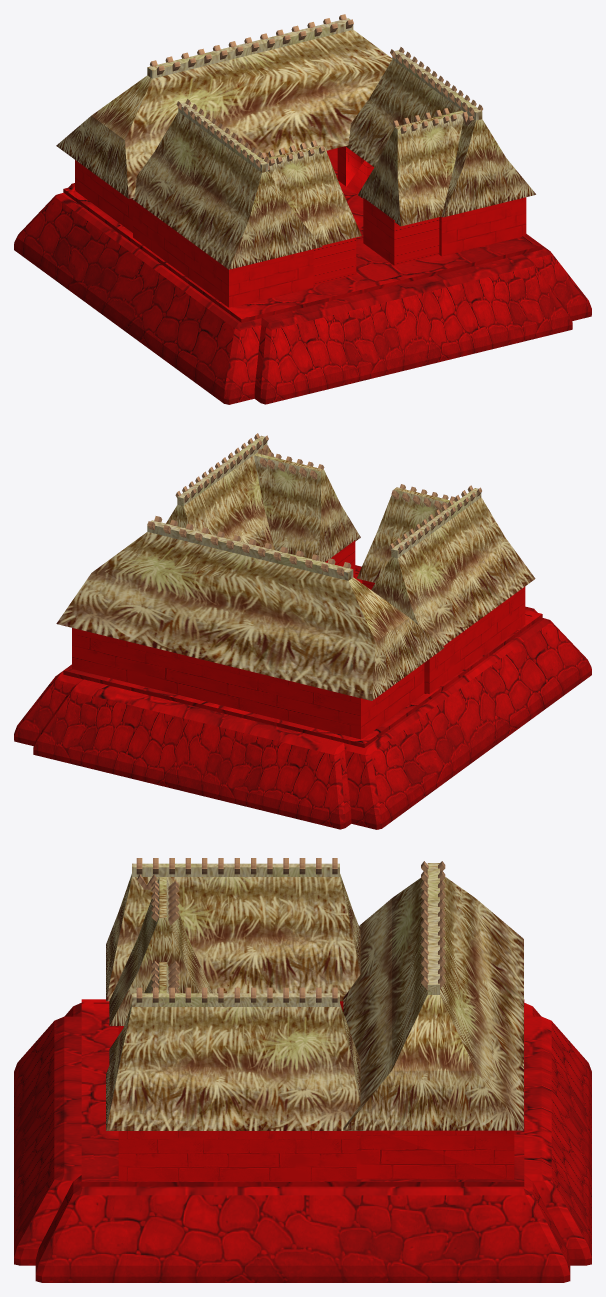
File: BARRACKS.dae
The picture shows the model from 3 angles, top to bottom: view 1: azimuth 30°, elevation 25°; view 2: azimuth 150°, elevation 25°; view 3: azimuth 270°, elevation 25°; orthographic projection. The views are drawn at different scales.
Visible parts, largest first — view 1: BARRACKS_KALA; view 2: BARRACKS_KALA; view 3: BARRACKS_KALA.
Part boxes in pixels (bbox=[...]): BARRACKS_KALA: bbox=[14, 14, 591, 404]; BARRACKS_KALA: bbox=[14, 433, 591, 829]; BARRACKS_KALA: bbox=[14, 858, 591, 1282].
Size of the model in its own units: 31.15 by 34.09 by 16.42.
